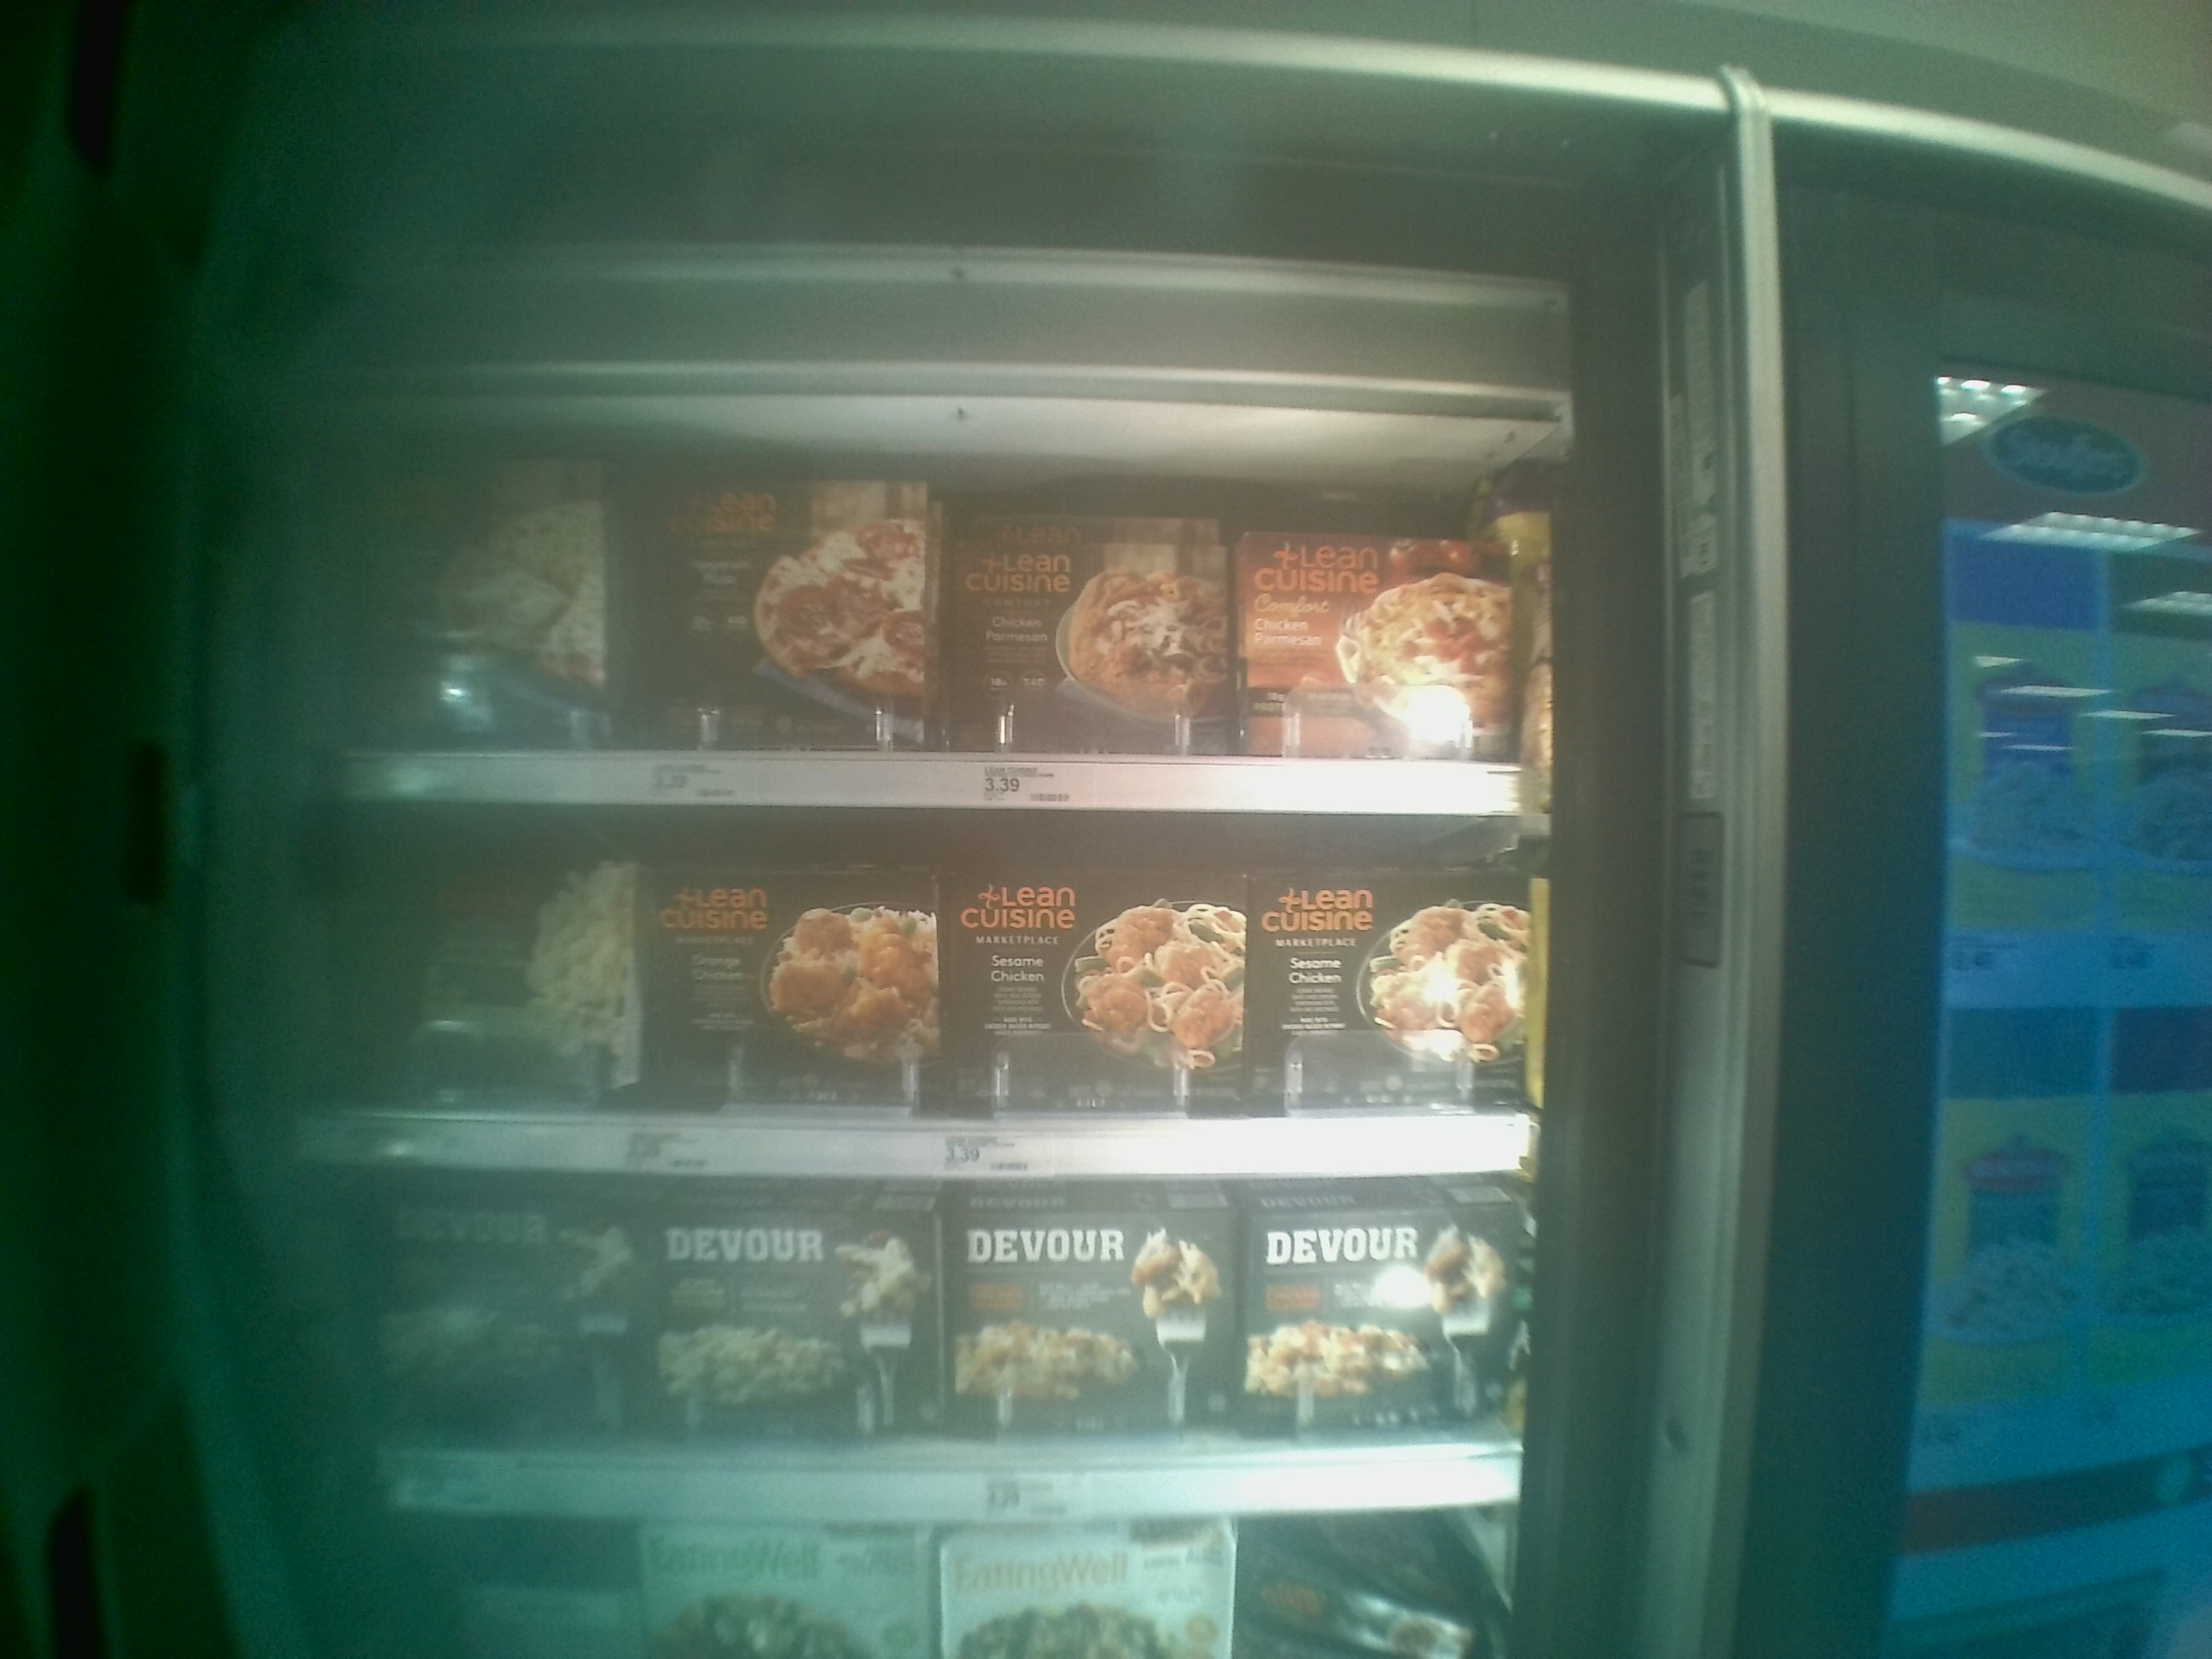shelf: (336, 404, 1521, 824), (314, 1168, 1541, 1535), (315, 807, 1524, 1180)
